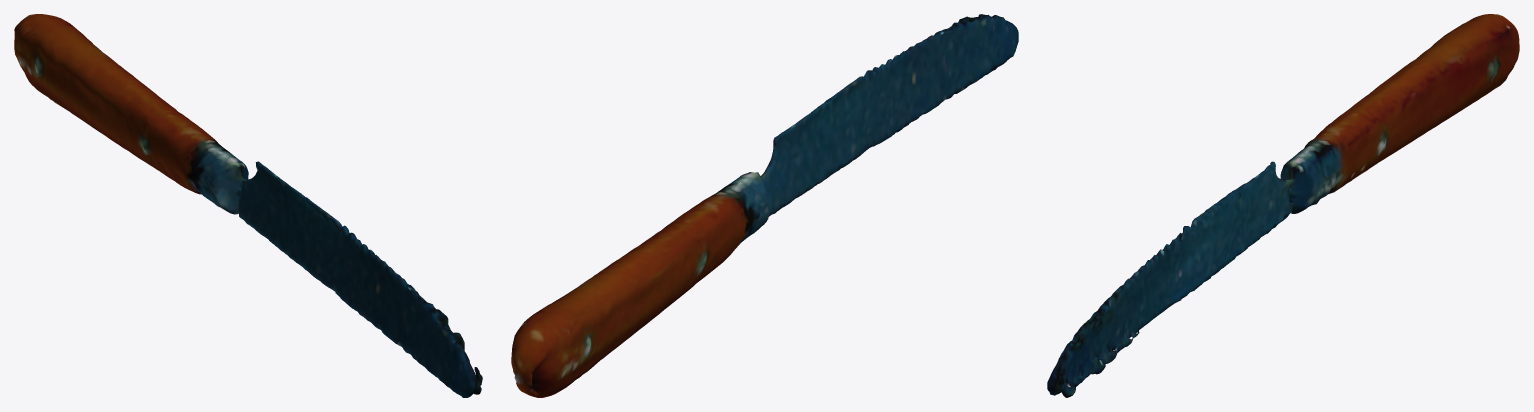
Rendered from textured_simplified.obj.
3 renders of one model, left to right at view 1: azimuth 30°, elevation 25°; view 2: azimuth 150°, elevation 25°; view 3: azimuth 330°, elevation 25°, orthographic. The views are drawn at different scales.
Size of the model in its own units: 0.0136 by 0.0215 by 0.2146.
